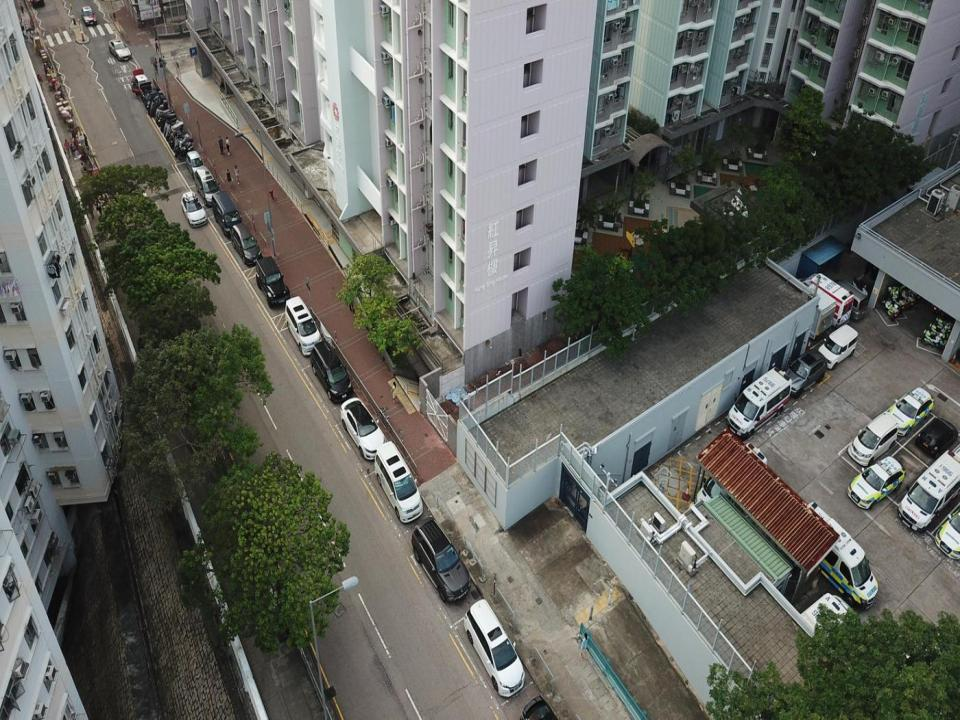car: (463, 600, 525, 698), (340, 397, 389, 461), (848, 455, 905, 509), (882, 386, 934, 437), (312, 341, 352, 404), (816, 324, 858, 370), (915, 416, 958, 458), (934, 504, 960, 560), (181, 191, 208, 227), (521, 697, 558, 719), (108, 38, 132, 62), (186, 151, 204, 176), (81, 2, 95, 24)
van: (411, 516, 472, 604), (373, 441, 422, 524), (847, 412, 898, 467), (285, 296, 322, 356), (784, 348, 827, 398), (255, 257, 290, 309), (826, 278, 867, 320), (211, 191, 243, 238), (230, 223, 262, 266), (195, 166, 221, 208)
